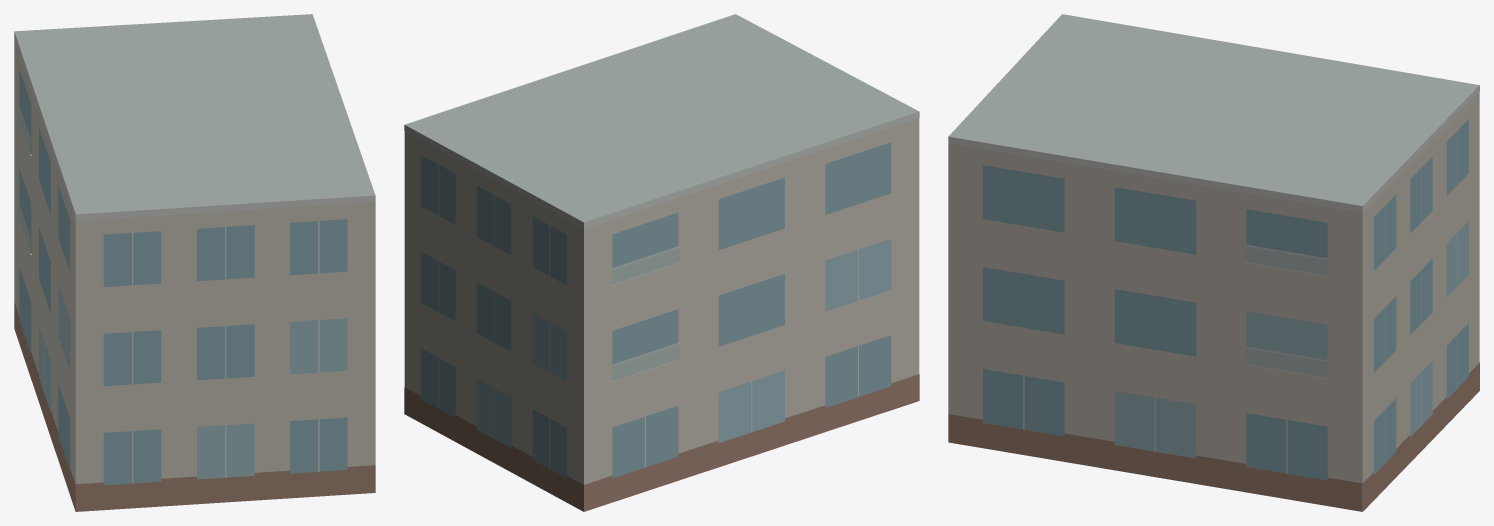
Rendered from survey-upis-32839571.glb.
3 views of the same model, side by side, from view 1: azimuth 30°, elevation 25°; view 2: azimuth 150°, elevation 25°; view 3: azimuth 270°, elevation 25° (orthographic). The views are drawn at different scales.
Parts seen in each view (by area): view 1: survey-upis-32839571.tmp; view 2: survey-upis-32839571.tmp; view 3: survey-upis-32839571.tmp.
Boxes of the visible parts, left/top/right/bottom form: survey-upis-32839571.tmp: left=14, top=14, right=375, bottom=511; survey-upis-32839571.tmp: left=404, top=14, right=919, bottom=511; survey-upis-32839571.tmp: left=948, top=14, right=1479, bottom=511.
Bounding box in the file's own units: 15.04 × 11.15 × 17.58.
